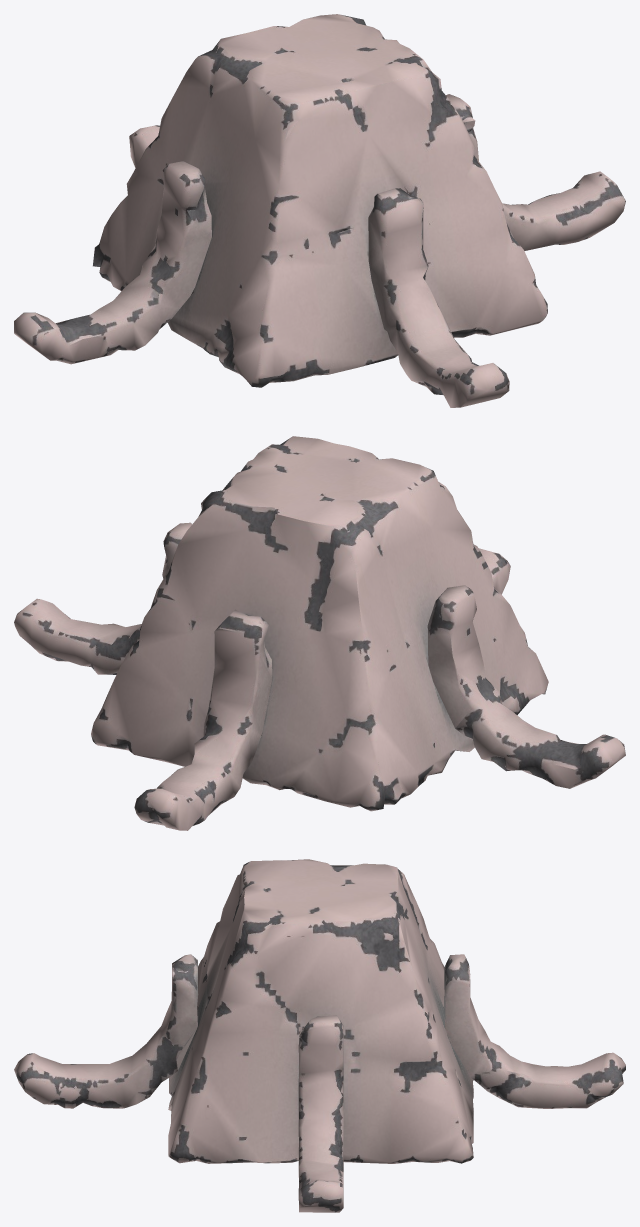
The model's file is pedestal.glb.
3 views of the same model, one above another, from view 1: azimuth 30°, elevation 25°; view 2: azimuth 150°, elevation 25°; view 3: azimuth 270°, elevation 25° (orthographic). The views are drawn at different scales.
Parts seen in each view (by area): view 1: Cube_dmg.target; view 2: Cube_dmg.target; view 3: Cube_dmg.target.
Part boxes in pixels (x1=…): Cube_dmg.target: x1=14, y1=14, x2=625, y2=407; Cube_dmg.target: x1=14, y1=436, x2=625, y2=830; Cube_dmg.target: x1=14, y1=859, x2=625, y2=1212.
Size of what is drawn, in the model's own units: 3.98 by 1.51 by 3.97.
1 material, 1 textured.
